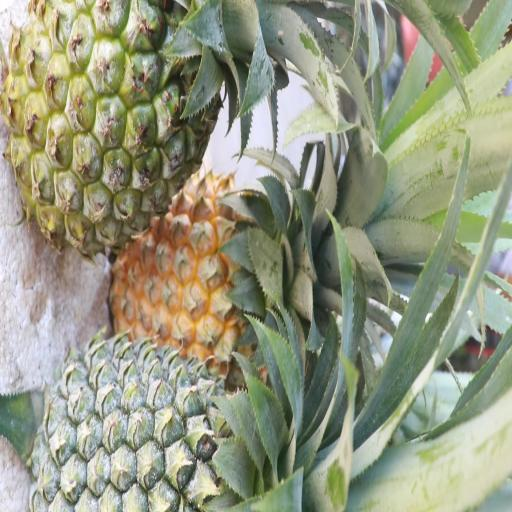------------------------------: (8, 0, 226, 250)
Pineapple - v8 v1: (118, 174, 318, 362)
